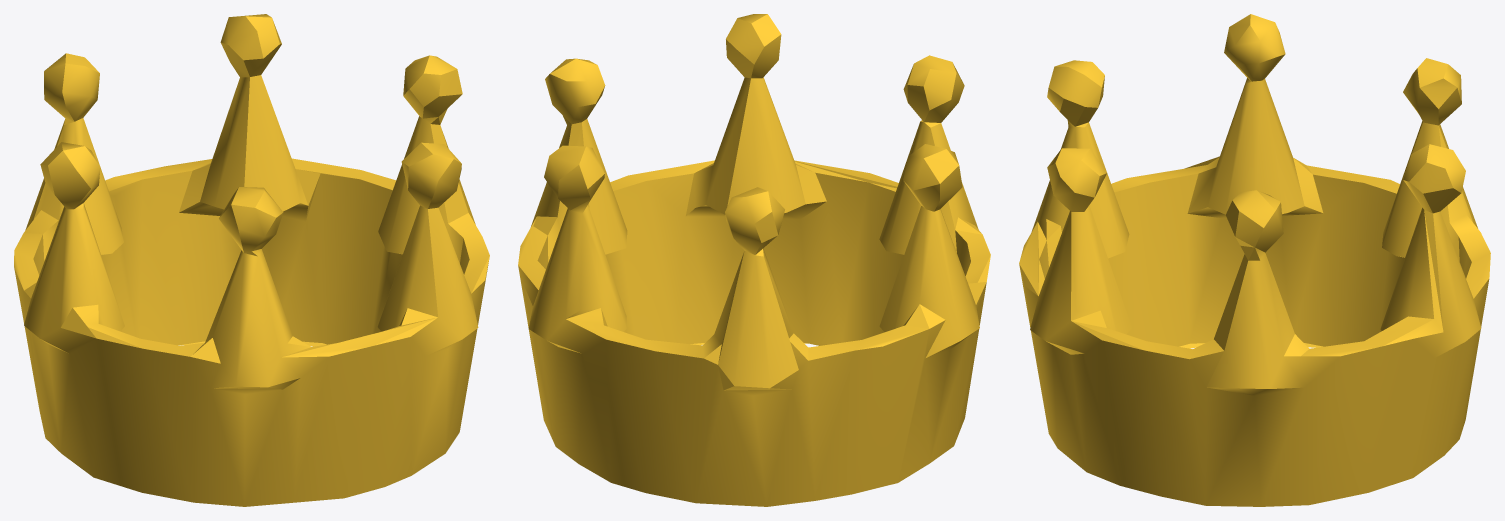
The model's file is prop_crown.glb.
3 renders of one model, left to right at view 1: azimuth 30°, elevation 25°; view 2: azimuth 150°, elevation 25°; view 3: azimuth 270°, elevation 25°, orthographic.
Parts seen in each view (by area): view 1: prop_crown; view 2: prop_crown; view 3: prop_crown.
Part boxes in pixels (box(x1,y1,x2,y2)): prop_crown: box(14, 14, 489, 506); prop_crown: box(518, 14, 990, 506); prop_crown: box(1019, 14, 1490, 506).
Bounding box in the file's own units: 3.72 × 2.58 × 3.49.
